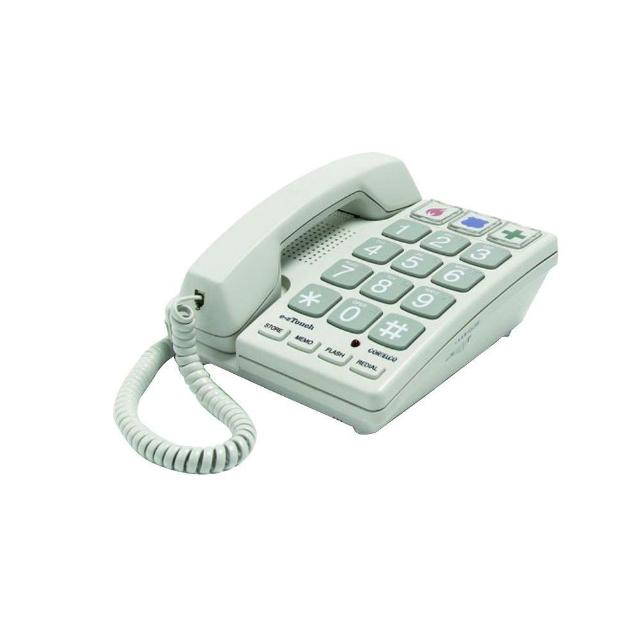Telephone-Set: (127, 118, 549, 454)
